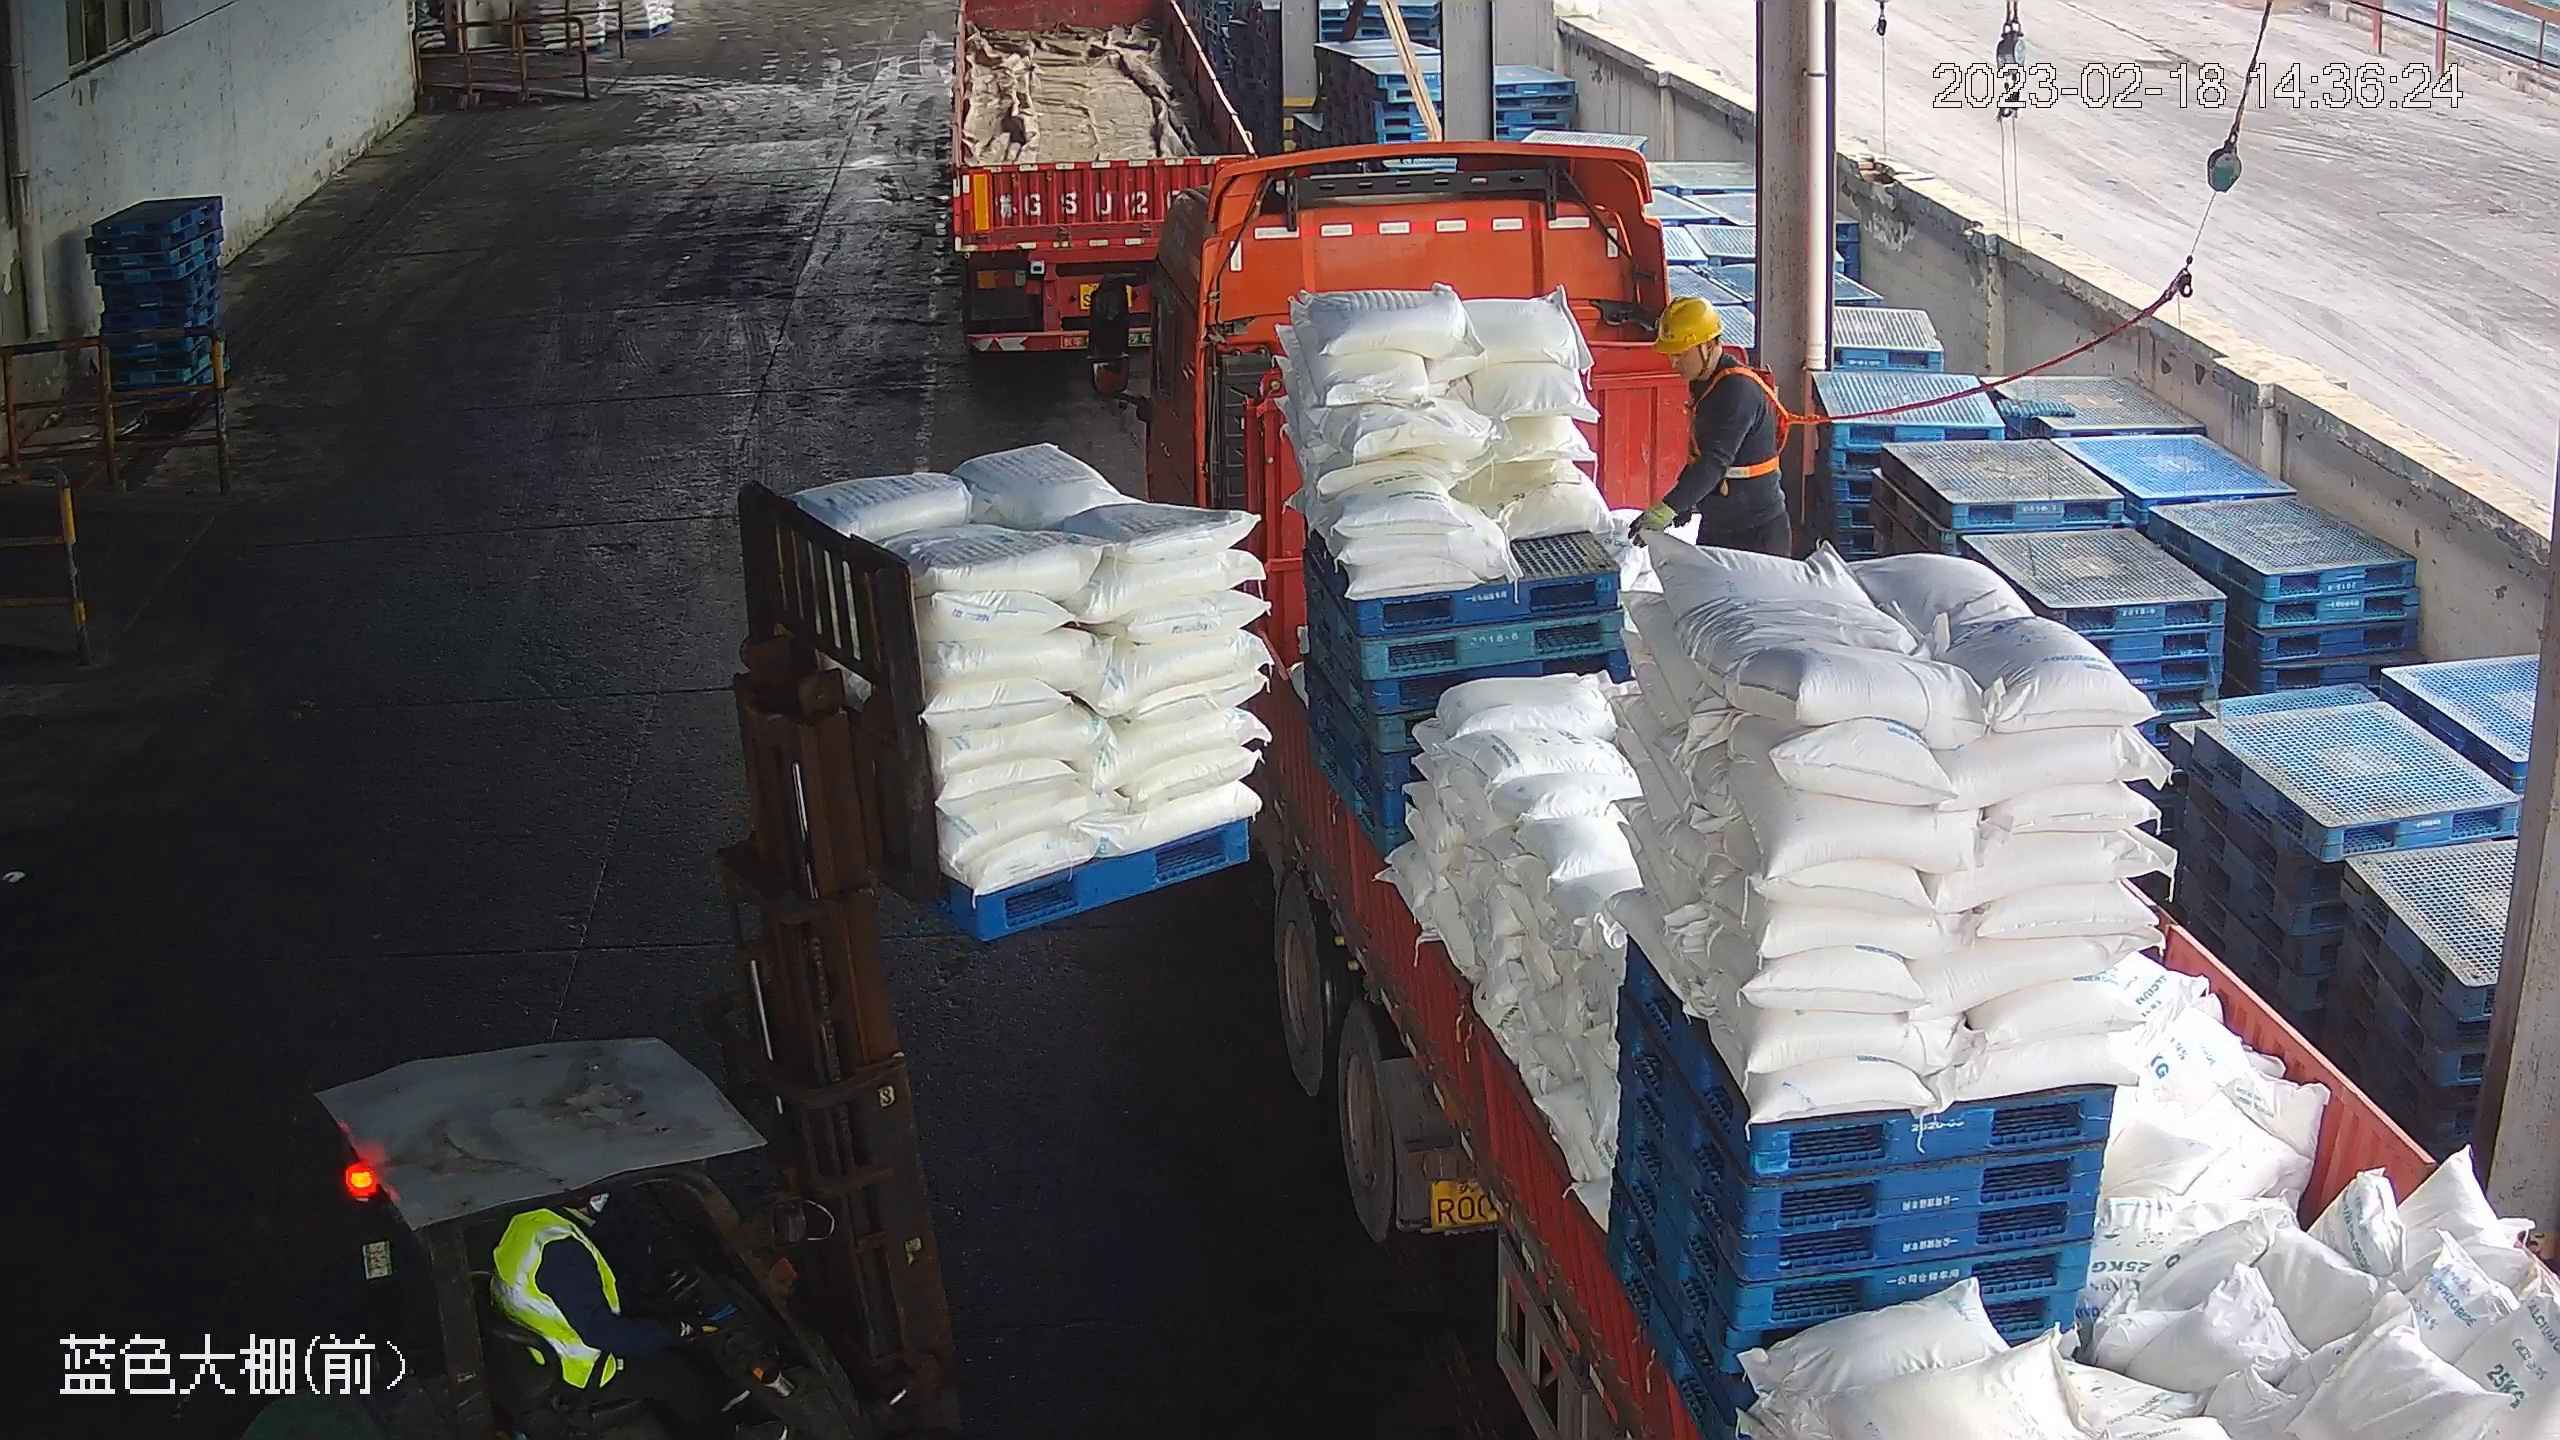belt: (1686, 363, 1816, 483)
head: (1651, 295, 1779, 421)
helmet: (1653, 295, 1725, 356)
people: (1630, 293, 1798, 571)
truck: (1143, 139, 2560, 1440)
